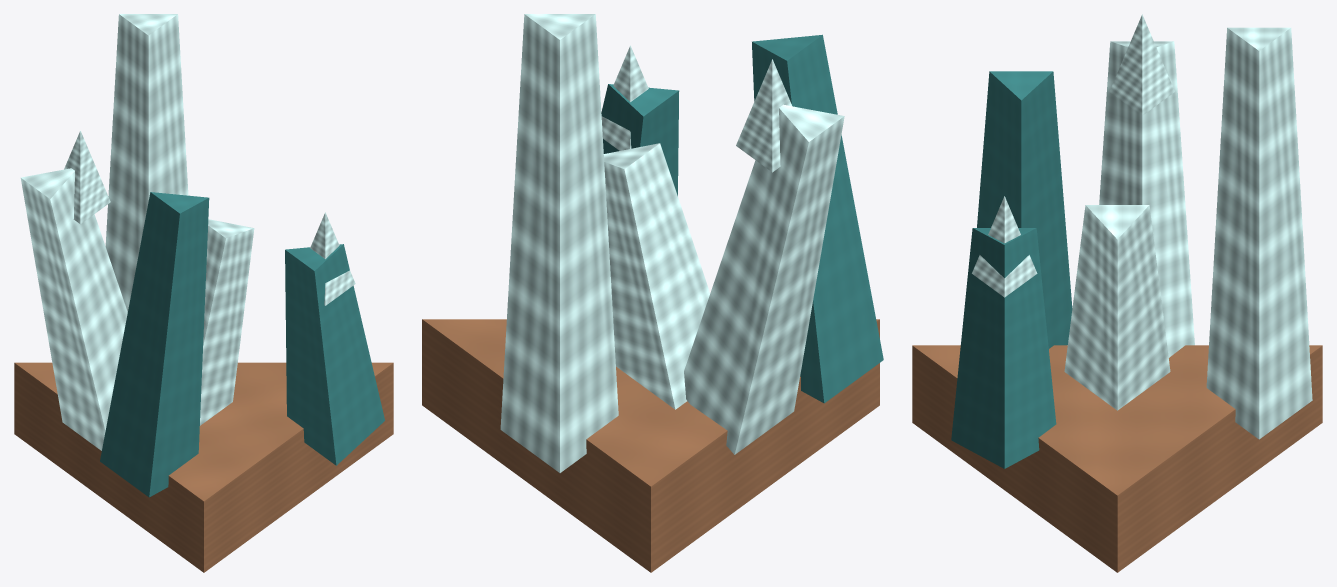
The model's file is atlas100-s092-a04.lod2.glb.
3 views of the same model, side by side, from view 1: azimuth 30°, elevation 25°; view 2: azimuth 150°, elevation 25°; view 3: azimuth 270°, elevation 25° (orthographic). The views are drawn at different scales.
Visible parts, largest first — view 1: atlas100-s092-a04:part-000, atlas100-s092-a04:part-003, atlas100-s092-a04:part-009, atlas100-s092-a04:part-005, atlas100-s092-a04:part-007, atlas100-s092-a04:part-001, atlas100-s092-a04:part-010, atlas100-s092-a04:part-008; view 2: atlas100-s092-a04:part-005, atlas100-s092-a04:part-000, atlas100-s092-a04:part-009, atlas100-s092-a04:part-001, atlas100-s092-a04:part-003, atlas100-s092-a04:part-007, atlas100-s092-a04:part-010, atlas100-s092-a04:part-008; view 3: atlas100-s092-a04:part-000, atlas100-s092-a04:part-005, atlas100-s092-a04:part-007, atlas100-s092-a04:part-001, atlas100-s092-a04:part-003, atlas100-s092-a04:part-009, atlas100-s092-a04:part-010, atlas100-s092-a04:part-008.
Part boxes in pixels (x1,y1,x2,y2): atlas100-s092-a04:part-000: (14,362,393,572); atlas100-s092-a04:part-003: (100,192,209,497); atlas100-s092-a04:part-009: (20,168,127,450); atlas100-s092-a04:part-005: (105,14,188,311); atlas100-s092-a04:part-007: (285,244,384,465); atlas100-s092-a04:part-001: (200,219,254,425); atlas100-s092-a04:part-010: (64,130,110,224); atlas100-s092-a04:part-008: (310,212,355,305); atlas100-s092-a04:part-005: (500,14,618,472); atlas100-s092-a04:part-000: (422,319,879,572); atlas100-s092-a04:part-009: (684,104,844,454); atlas100-s092-a04:part-001: (603,143,710,409); atlas100-s092-a04:part-003: (752,34,883,403); atlas100-s092-a04:part-007: (601,84,679,195); atlas100-s092-a04:part-010: (736,59,791,172); atlas100-s092-a04:part-008: (601,45,648,150); atlas100-s092-a04:part-000: (912,345,1322,572); atlas100-s092-a04:part-005: (1206,27,1312,439); atlas100-s092-a04:part-007: (951,228,1056,468); atlas100-s092-a04:part-001: (1064,205,1170,410); atlas100-s092-a04:part-003: (977,71,1072,348); atlas100-s092-a04:part-009: (1099,41,1194,357); atlas100-s092-a04:part-010: (1109,14,1174,115); atlas100-s092-a04:part-008: (972,196,1037,297).
Bounding box in the file's own units: 0.9772 × 1.1 × 0.9258.
Materials: 3 (3 with a texture image).
